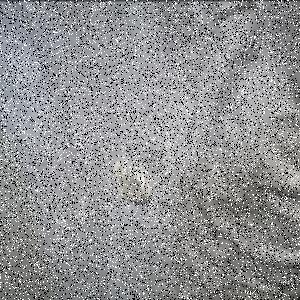Cup: (115, 161, 153, 205)
